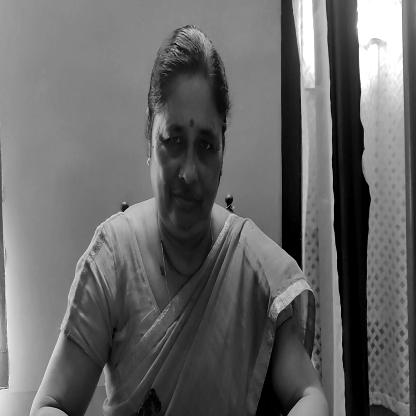Normal: (152, 40, 221, 239)
